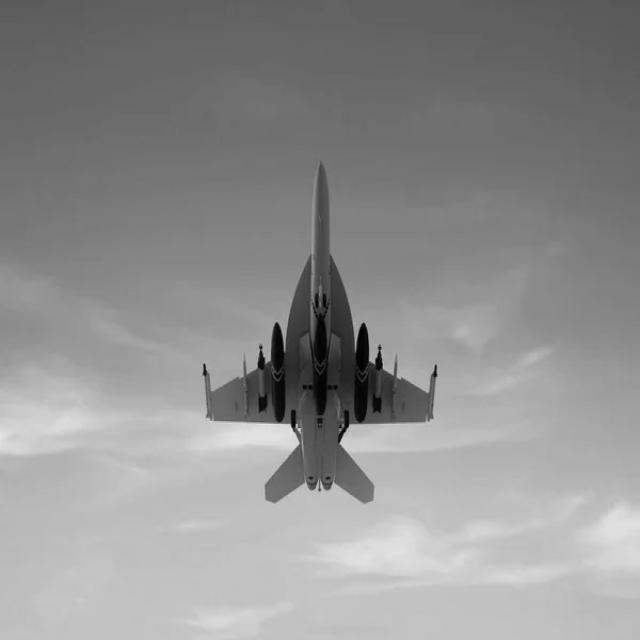Aircraft: (199, 148, 447, 513)
